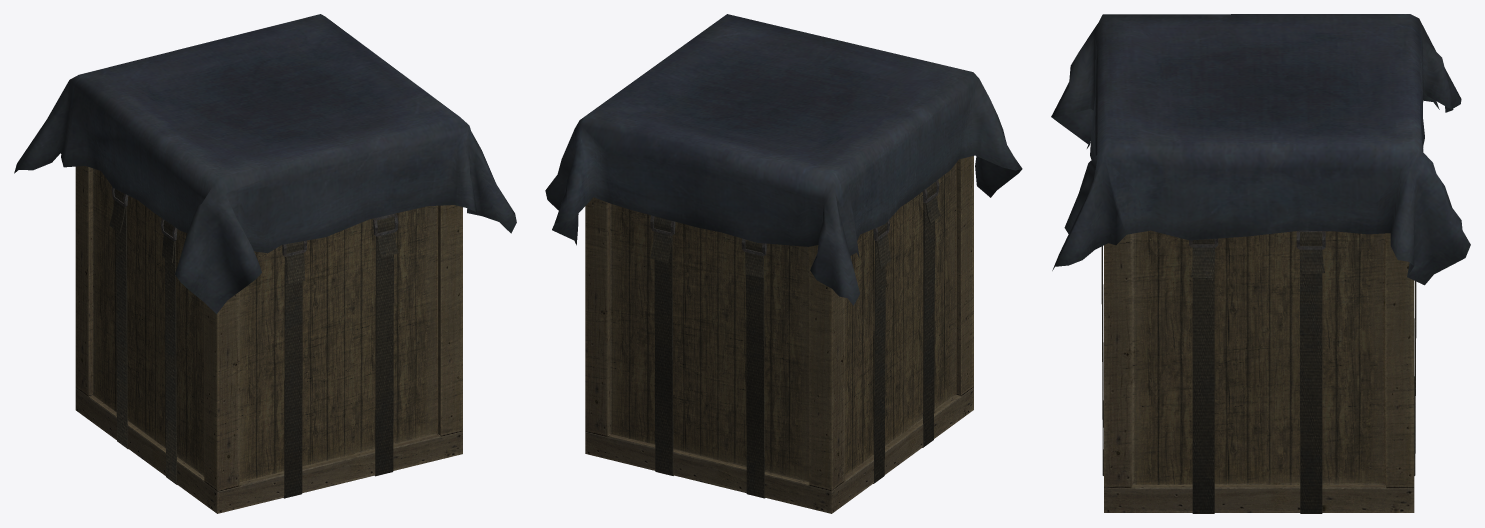
File: wooden_crate_hx_4.obj
3 views of the same model, side by side, from view 1: azimuth 30°, elevation 25°; view 2: azimuth 150°, elevation 25°; view 3: azimuth 270°, elevation 25° (orthographic). The views are drawn at different scales.
Visible parts, largest first — view 1: wooden_crate_hx_4; view 2: wooden_crate_hx_4; view 3: wooden_crate_hx_4.
Part boxes in pixels (bbox=[...]): wooden_crate_hx_4: bbox=[14, 14, 516, 513]; wooden_crate_hx_4: bbox=[545, 14, 1022, 513]; wooden_crate_hx_4: bbox=[1051, 14, 1470, 513].
Bounding box in the file's own units: 1.89 × 1.84 × 1.89.
